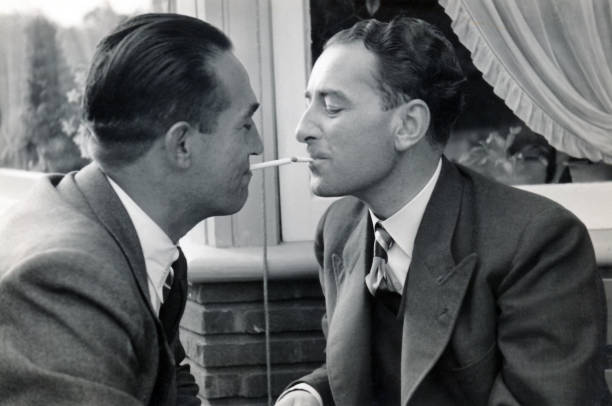cigarette: (245, 157, 292, 177), (293, 155, 317, 162)
